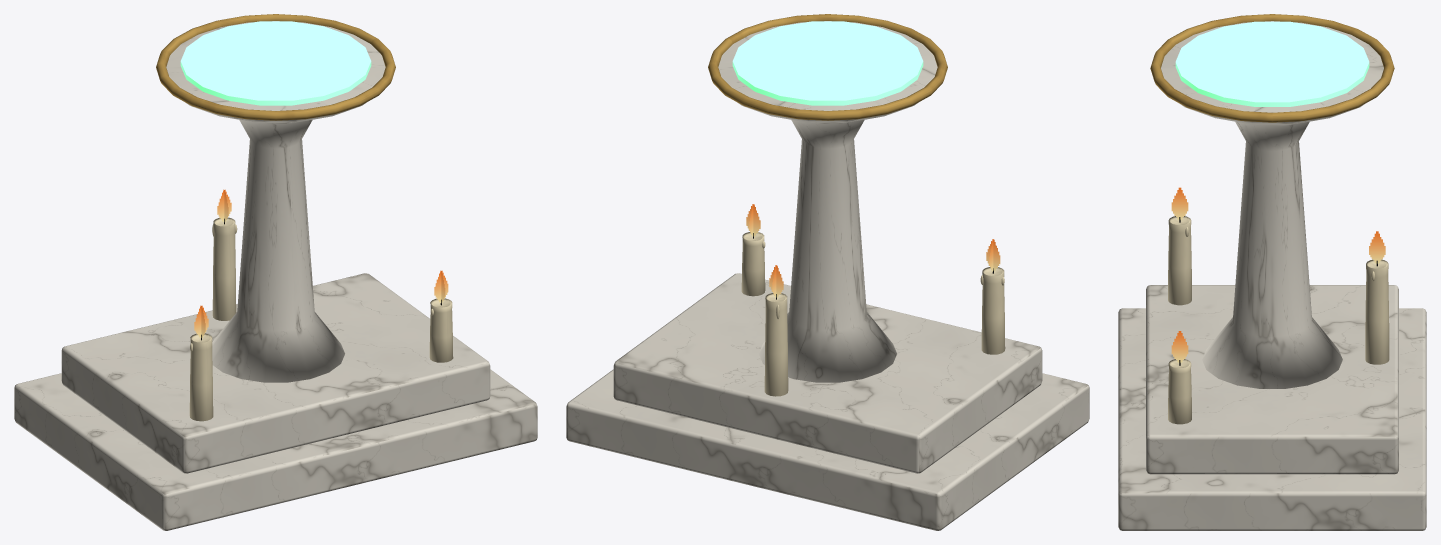
File: stakeSanctuary.glb
3 views of the same model, side by side, from view 1: azimuth 30°, elevation 25°; view 2: azimuth 150°, elevation 25°; view 3: azimuth 270°, elevation 25° (orthographic).
Parts seen in each view (by area): view 1: stakeSanctuary; view 2: stakeSanctuary; view 3: stakeSanctuary.
Part boxes in pixels (x1=…): stakeSanctuary: x1=14, y1=14, x2=537, y2=530; stakeSanctuary: x1=566, y1=14, x2=1089, y2=530; stakeSanctuary: x1=1118, y1=14, x2=1426, y2=530.
Bounding box in the file's own units: 1 × 0.946 × 0.7002.
Materials: 6 (4 with a texture image).
